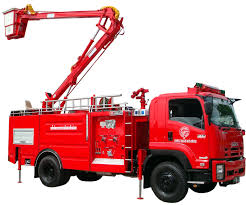truck: (7, 89, 246, 203)
